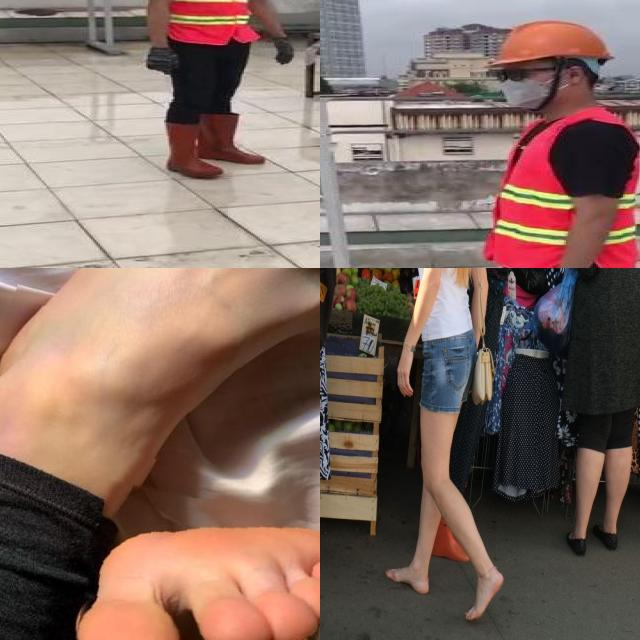Barefoots: (0, 268, 320, 523), (97, 496, 320, 640), (465, 568, 504, 620), (385, 567, 429, 594)
boots: (196, 112, 267, 164), (164, 122, 219, 178)
face_mask: (494, 64, 551, 108)
glasses: (488, 64, 538, 86)
hand_glove: (146, 50, 182, 78), (271, 39, 299, 68)
head_helmet: (483, 19, 617, 68)
person: (430, 21, 640, 268), (135, 0, 297, 181)
vest: (489, 109, 638, 268), (155, 0, 261, 46)
